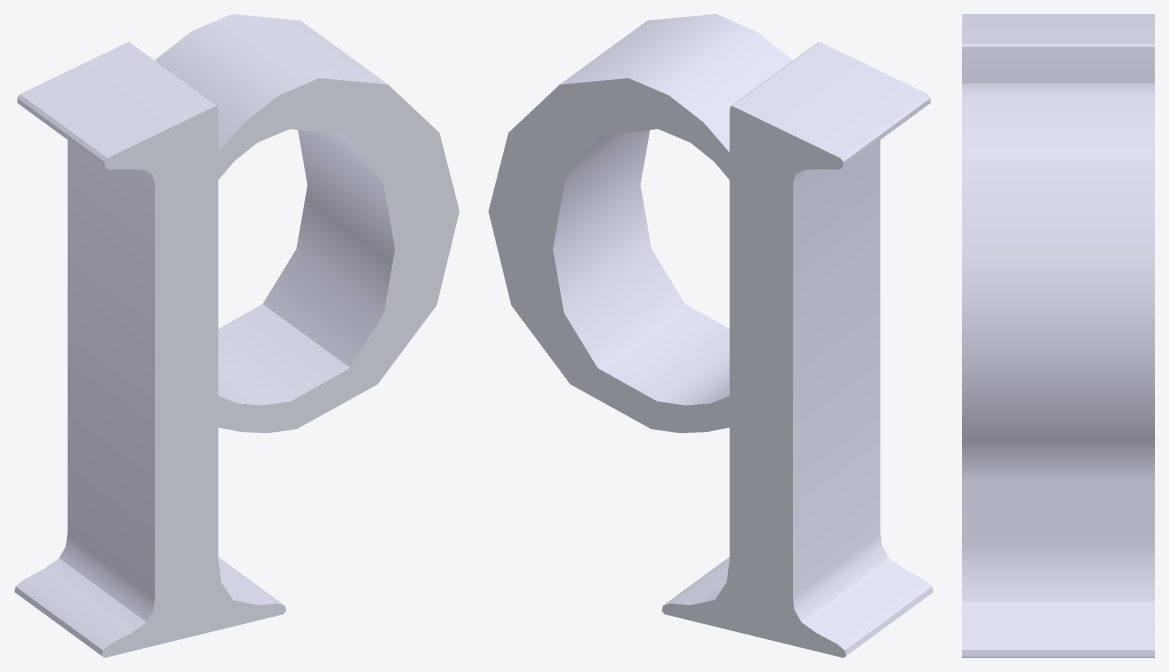
The model's file is P_Soul_Grey.glb.
3 views of the same model, side by side, from view 1: azimuth 30°, elevation 25°; view 2: azimuth 150°, elevation 25°; view 3: azimuth 270°, elevation 25° (orthographic). The views are drawn at different scales.
Parts seen in each view (by area): view 1: p_Soul_Grey; view 2: p_Soul_Grey; view 3: p_Soul_Grey.
Boxes of the visible parts, x1,y1,x2,y2 form: p_Soul_Grey: [14, 14, 459, 657]; p_Soul_Grey: [488, 14, 933, 657]; p_Soul_Grey: [962, 14, 1154, 657].
Size of what is drawn, in the model's own units: 0.1062 by 0.1496 by 0.045.
2 materials, 2 textured.
